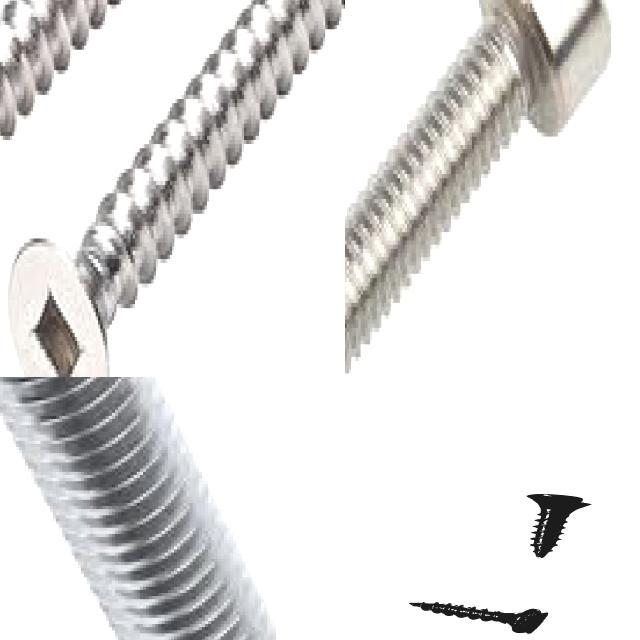Screw: (0, 0, 345, 377), (345, 0, 618, 377), (0, 377, 278, 640), (407, 602, 547, 634), (526, 493, 589, 558)
